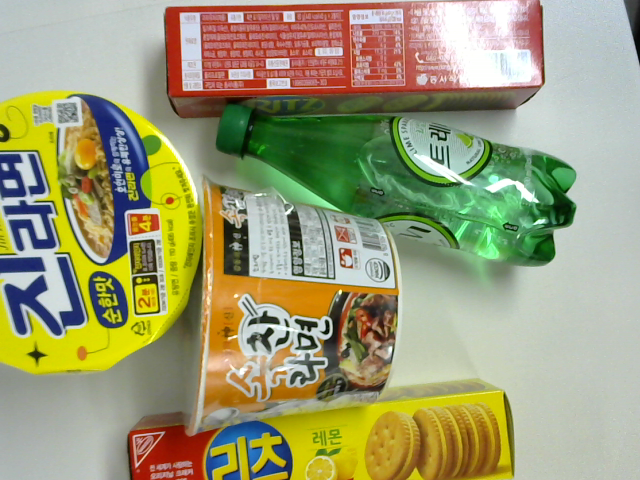Hejangchan: (168, 196, 404, 428)
Jinlamyeon_Mild_Taste_Large_Cup: (1, 94, 208, 381)
Ritz_Cracker: (162, 1, 560, 112)
Ritz_Remon_96g: (116, 382, 520, 480)
Treviraim_500ml: (211, 95, 581, 257)
